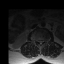CCS_normal: (40, 38, 41, 47)
LFS_severe_stenosis: (44, 38, 45, 43)
LLS_stenosis: (42, 38, 44, 44)
RFS_stenosis: (35, 37, 37, 43)
RLS_stenosis: (37, 38, 40, 44)
